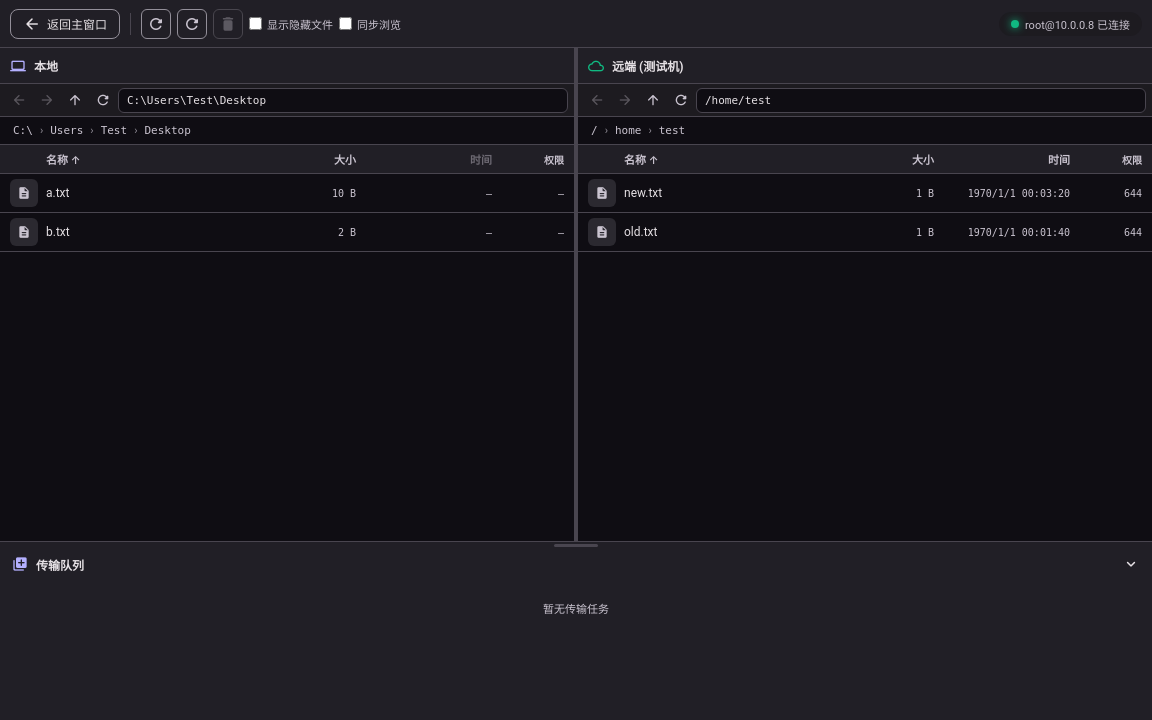
Scenario: SFTP 导航、排序与隐藏文件 › 过滤隐藏文件，并按大小和修改时间真实排序
Later steps or results of the test are not shown.
Expected: the element with test id "local-row-a.txt" is shown, top-left (0, 174), bottom-right (574, 213)
What coordinates should you click on to do the following:
click the checkbox labelled "显示隐藏文件"
I would click on:
 (256, 24)
Its box is top-left (249, 17), bottom-right (262, 30).
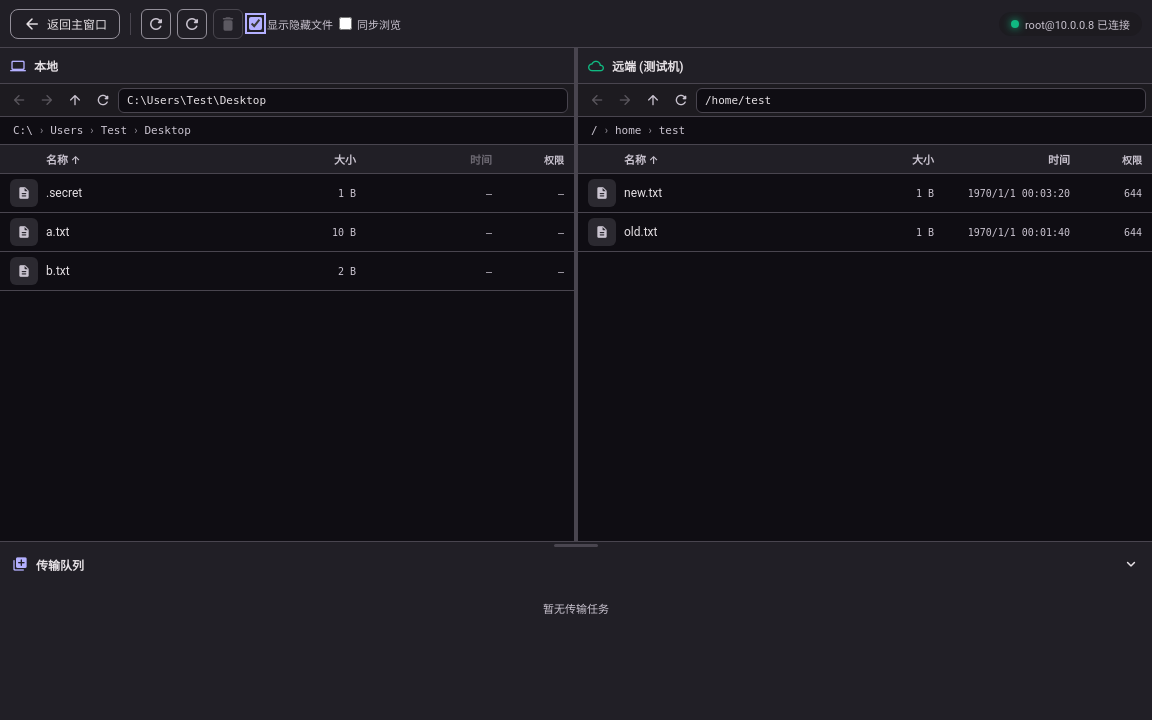
Now the element with test id "local-row-.secret" is shown, box top-left (0, 174), bottom-right (574, 213)
